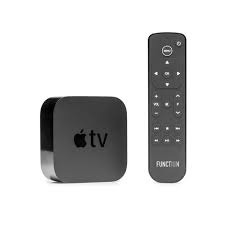remote control: (148, 33, 189, 184)
